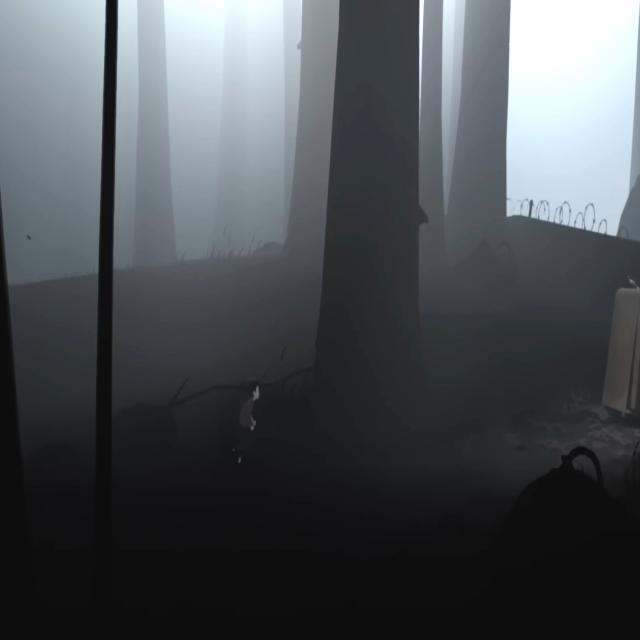boy: (230, 380, 260, 467)
